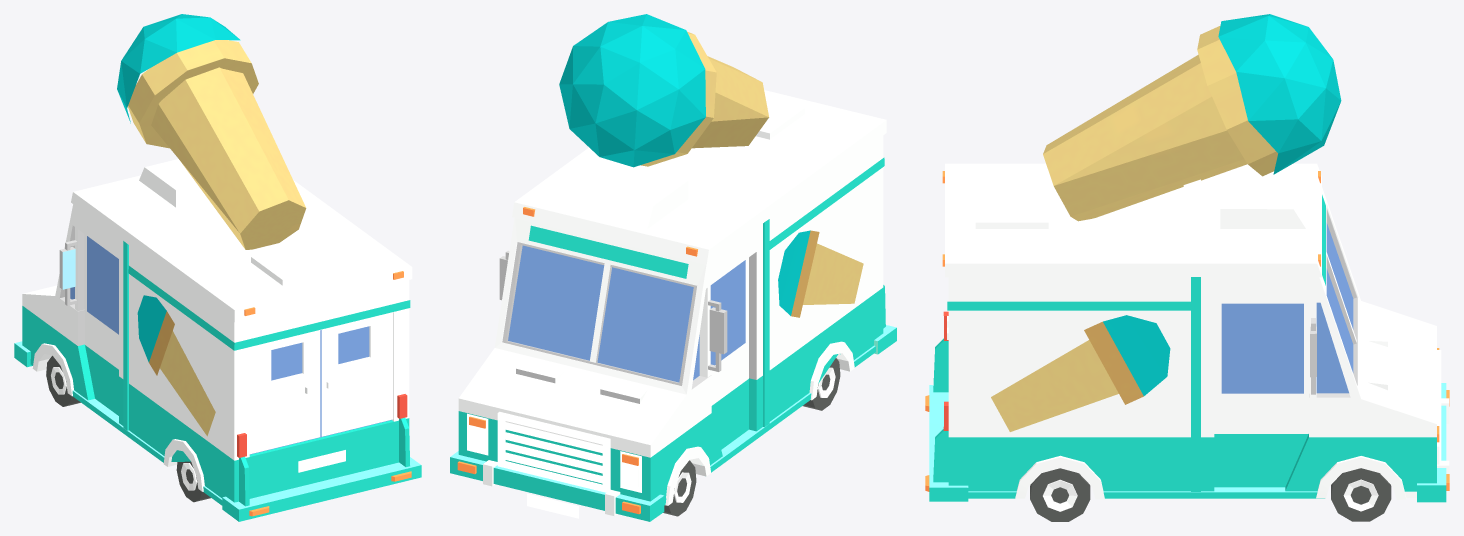
The model's file is transport_bus.004.glb.
The picture shows the model from 3 angles, left to right: view 1: azimuth 30°, elevation 25°; view 2: azimuth 150°, elevation 25°; view 3: azimuth 270°, elevation 25°; orthographic projection. The views are drawn at different scales.
Parts seen in each view (by area): view 1: transport_bus.004(Clone); view 2: transport_bus.004(Clone); view 3: transport_bus.004(Clone).
Part boxes in pixels (x1,y1,x2,y2): transport_bus.004(Clone): (14,14,421,521); transport_bus.004(Clone): (450,14,896,521); transport_bus.004(Clone): (925,14,1449,521).
Size of the model in its own units: 2.02 by 3.74 by 3.9.
Materials: 1 (1 with a texture image).
